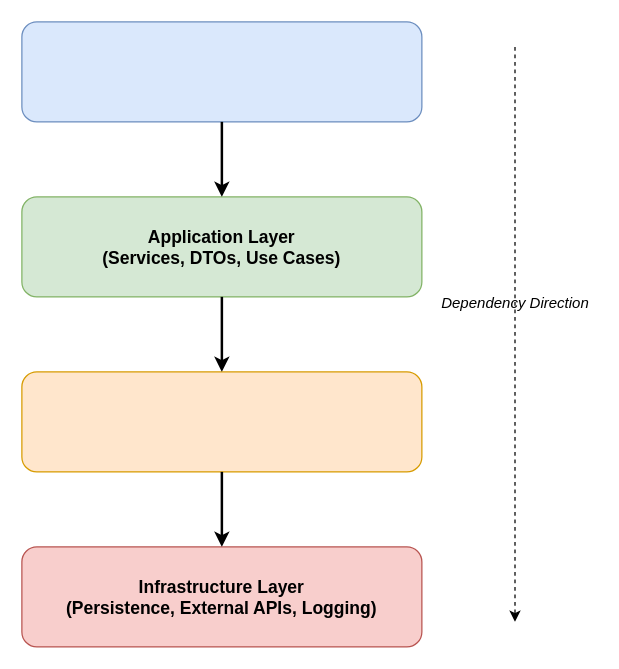
Image size: 619x669. Some labels were removed from this diagram. Here are the shapes that lost their labels. From the top down, the centre of each, then its label:
(x=221, y=71): Presentation Layer (UI, Controllers, Web API)
(x=221, y=421): Domain Layer (Entities, Value Objects, Domain Services)
